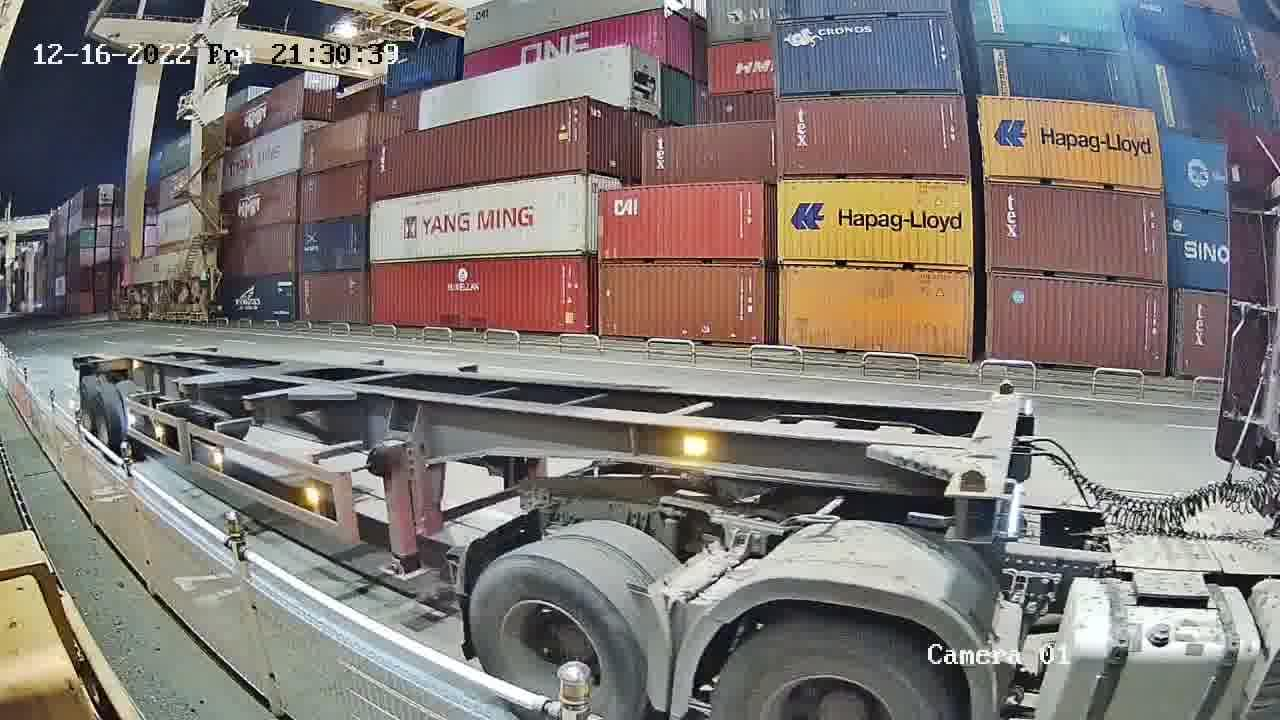Cone: (949, 469, 998, 541), (995, 380, 1019, 397)
Tire: (470, 557, 646, 716), (706, 618, 955, 714)
